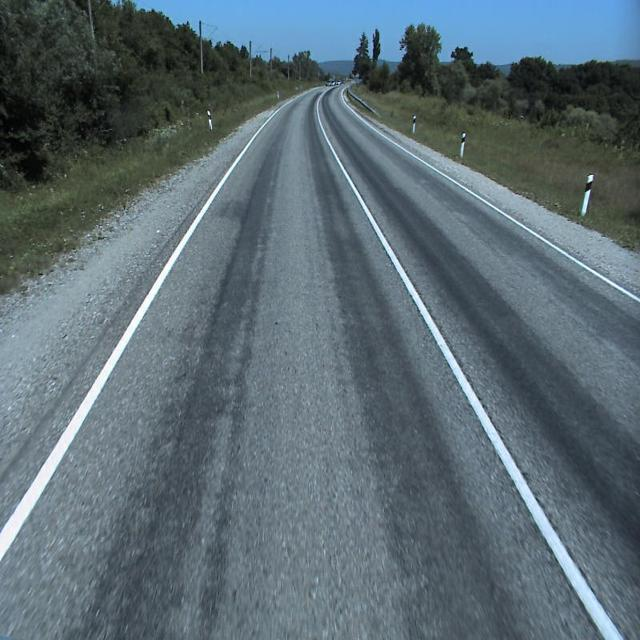road: (0, 82, 640, 639)
